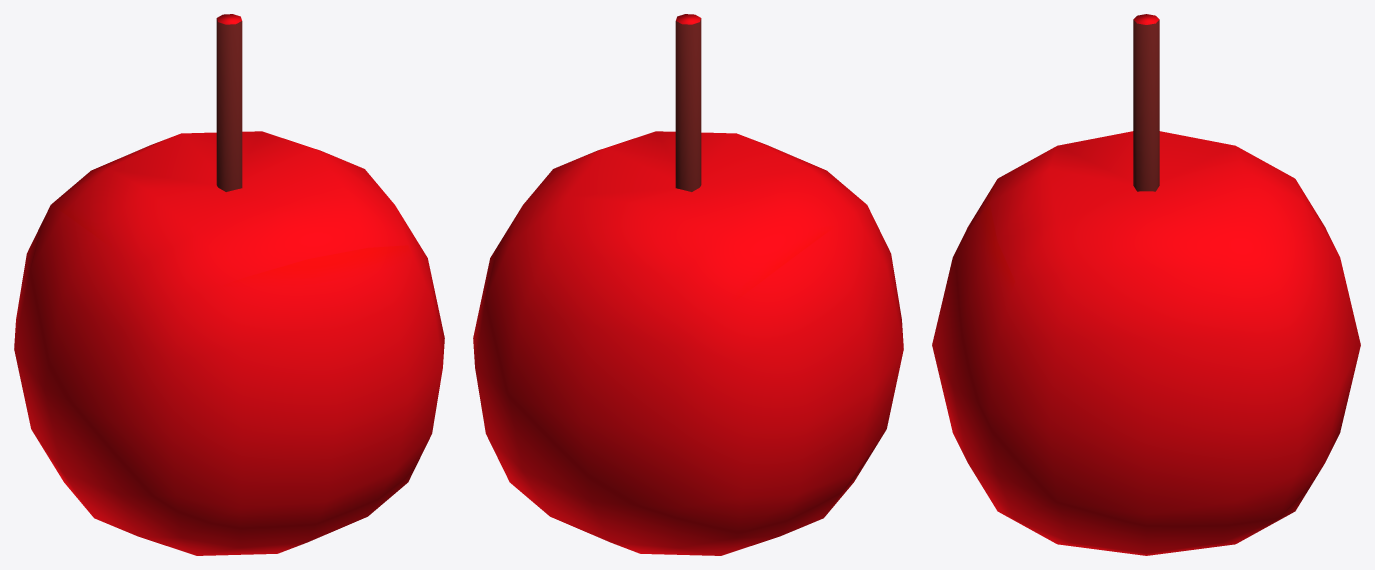
File: apple.obj
The picture shows the model from 3 angles, left to right: view 1: azimuth 30°, elevation 25°; view 2: azimuth 150°, elevation 25°; view 3: azimuth 270°, elevation 25°; orthographic projection.
Parts seen in each view (by area): view 1: 球; view 2: 球; view 3: 球.
Boxes of the visible parts, bbox=[...] form: 球: bbox=[14, 14, 444, 555]; 球: bbox=[473, 14, 903, 555]; 球: bbox=[932, 14, 1360, 555].
Bounding box in the file's own units: 1 × 1.32 × 1.
Materials: 1 (1 with a texture image).
